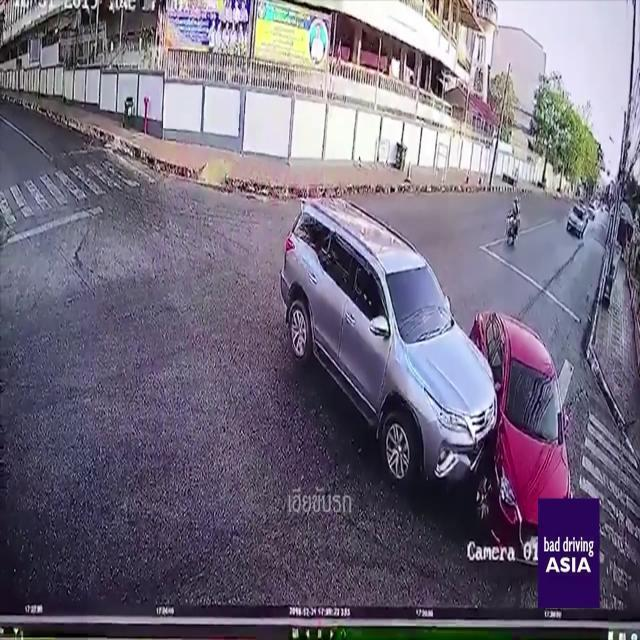car Accident: (311, 254, 625, 533)
